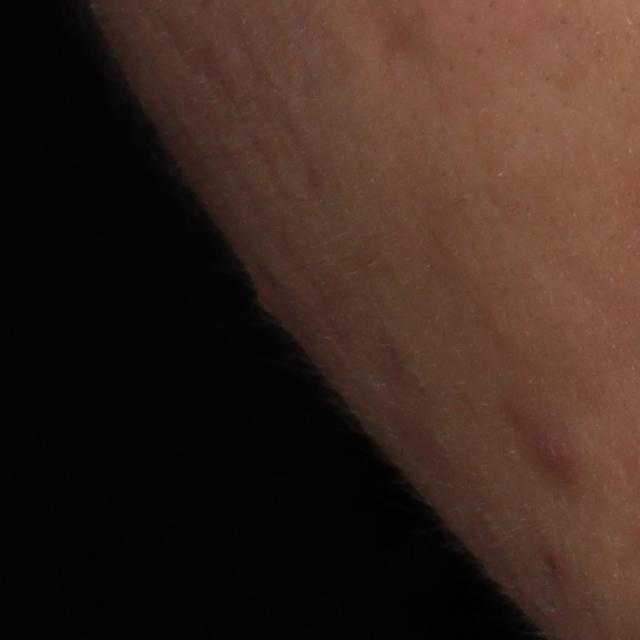papule: (528, 430, 583, 483)
